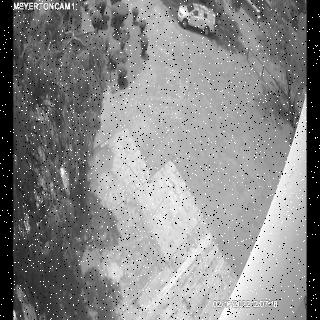car: (176, 2, 216, 36)
